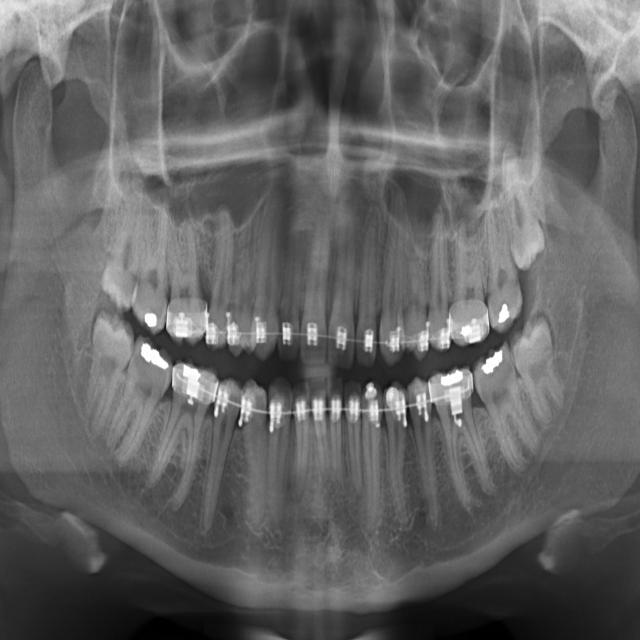AmalgamRestoration: (480, 342, 504, 395), (177, 364, 206, 404), (458, 314, 489, 351), (137, 341, 169, 375), (497, 300, 512, 330), (143, 305, 158, 331)
DentalCaries: (276, 286, 292, 346)
ImpactedTooth: (88, 311, 132, 439), (514, 308, 556, 439), (510, 150, 542, 274)
